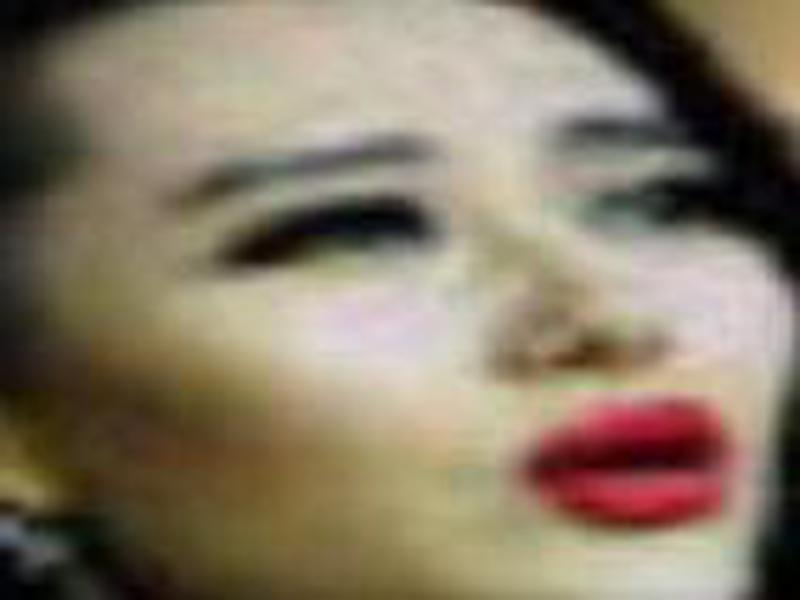without_mask: (53, 16, 793, 599)
